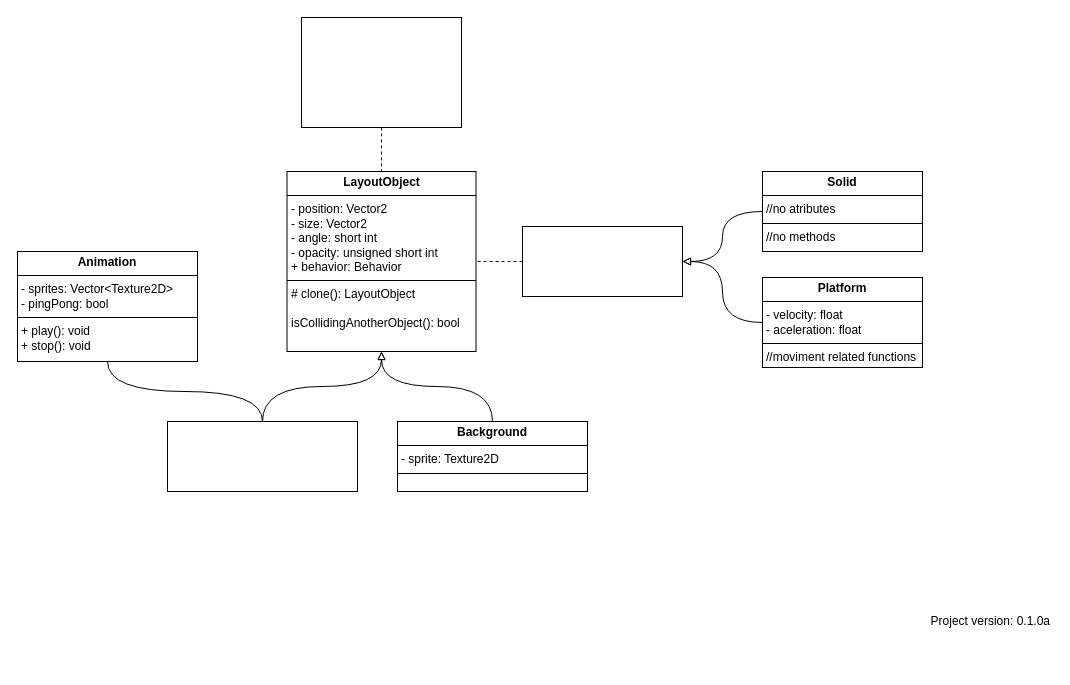
Image size: 1070x685. Some labels were removed from this diagram. The centre of each missing label's shape, as x and y in pixels:
Behavior - name: String - enabled: bool: the point at 602,261
Layout - size: Vector2 - viewSize: Vector2 - layers: ENUM # clone(): Layout: the point at 381,72
Sprite - animations: Vector<Animation>: the point at 262,456
